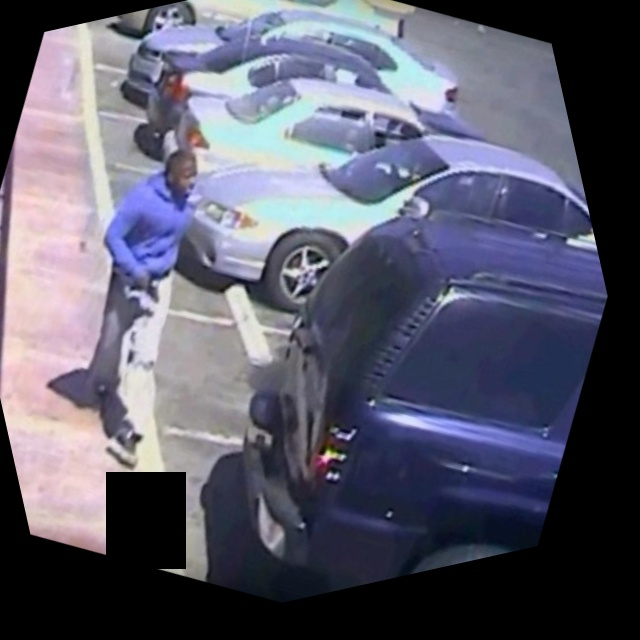gun: (120, 259, 179, 319)
